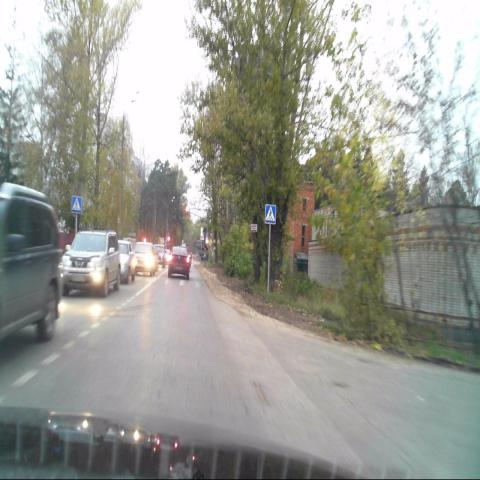5_19_1: (265, 204, 276, 224)
